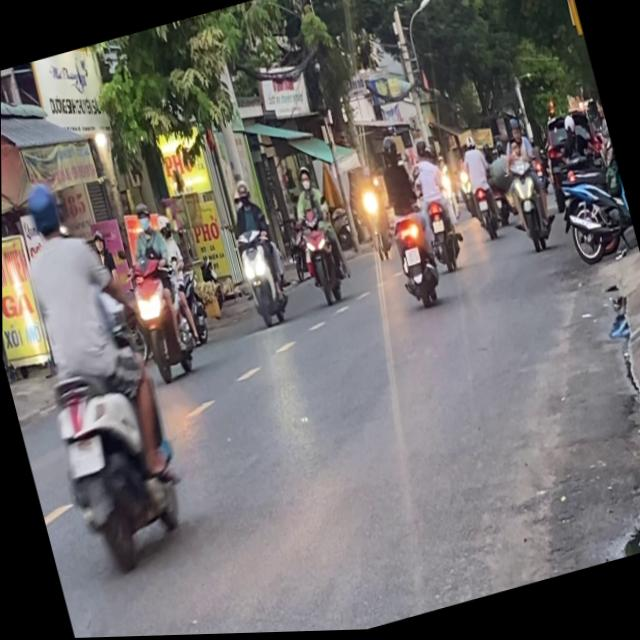helmet: (19, 178, 65, 245), (377, 135, 399, 166), (131, 200, 152, 232), (232, 178, 250, 205)
licenseplate: (1, 159, 201, 584), (107, 194, 205, 388), (364, 130, 445, 314), (218, 172, 297, 334)
nohelmet: (63, 435, 105, 477), (403, 248, 420, 267)
